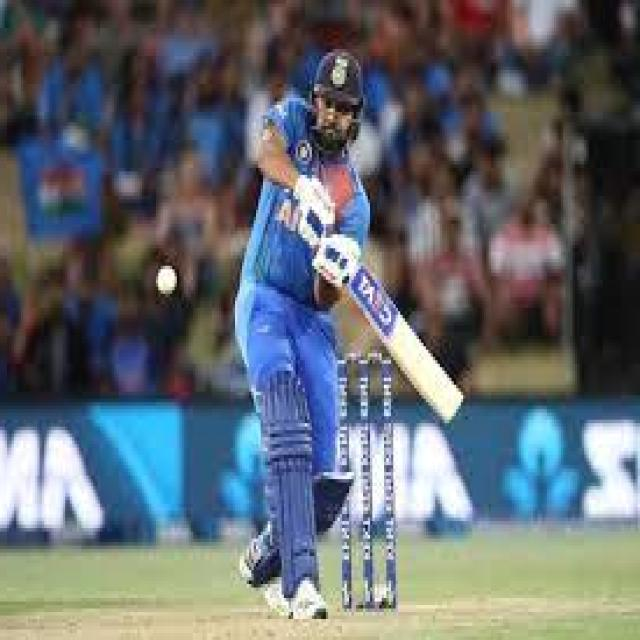toe: (442, 388, 471, 429)
